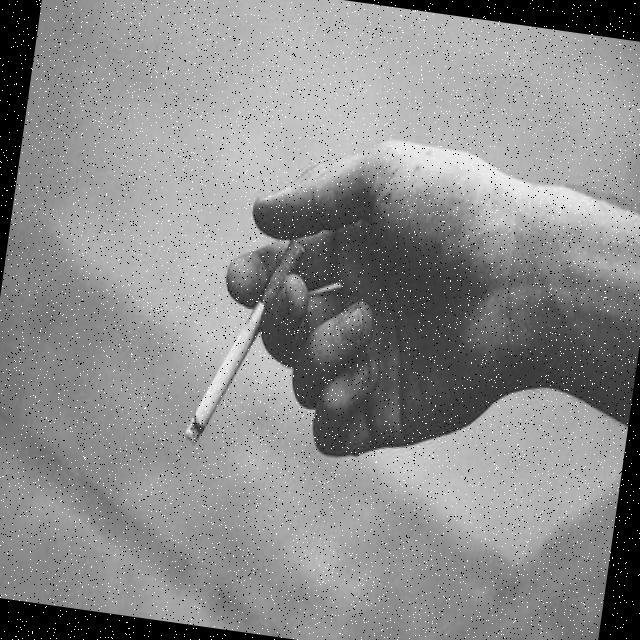cigarette: (184, 217, 312, 458)
